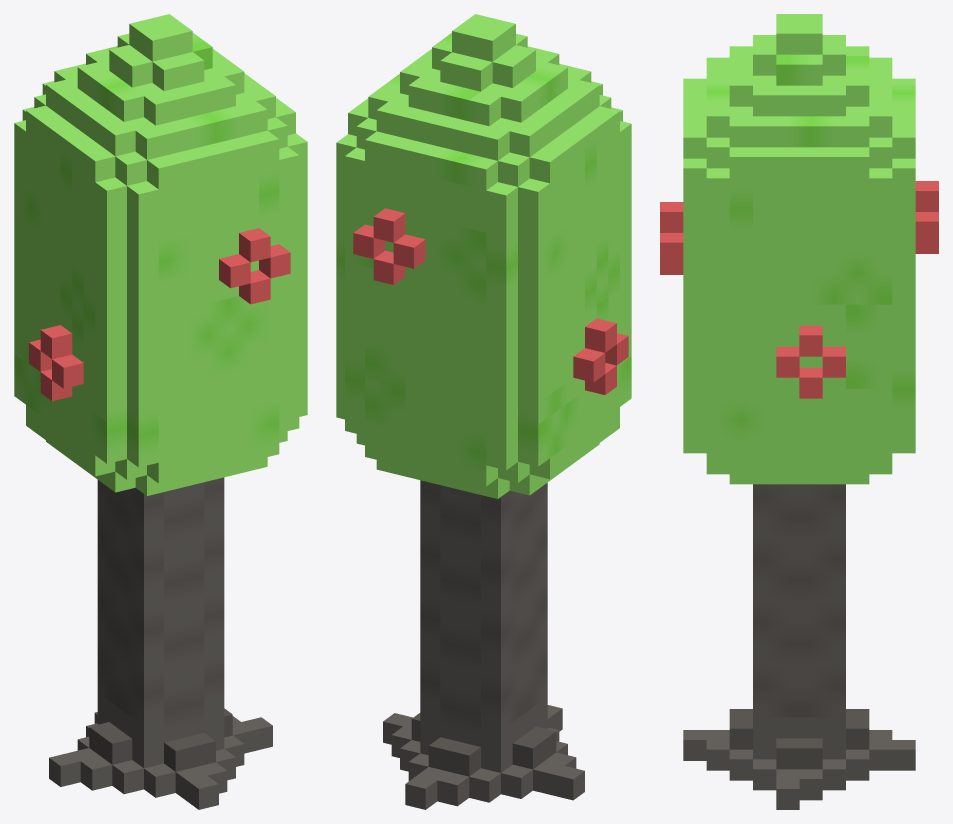
File: tree4.obj
The picture shows the model from 3 angles, left to right: view 1: azimuth 30°, elevation 25°; view 2: azimuth 150°, elevation 25°; view 3: azimuth 270°, elevation 25°; orthographic projection.
Visible parts, largest first — view 1: Box_18; view 2: Box_18; view 3: Box_18.
Boxes of the visible parts, bbox=[...] form: Box_18: bbox=[14, 14, 307, 809]; Box_18: bbox=[336, 14, 631, 809]; Box_18: bbox=[660, 14, 938, 809].
Size of the model in its own units: 12 by 35 by 12.
1 material, 1 textured.
